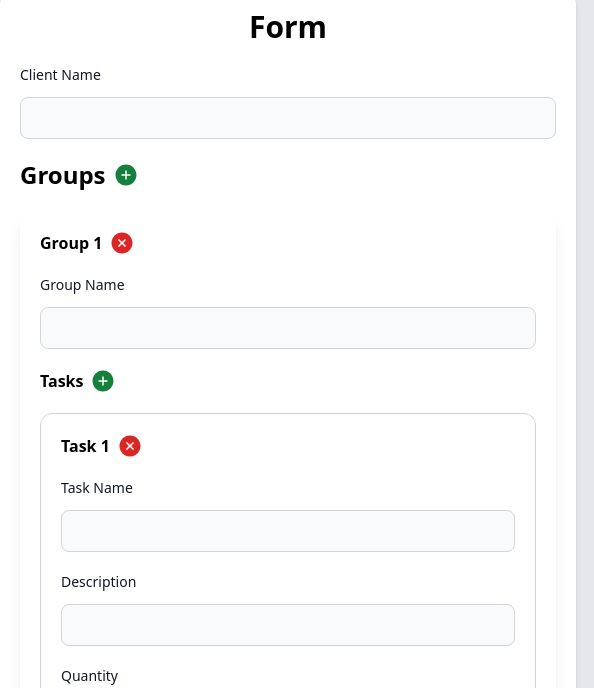
Test: DynamicForm Component › adds a new group when clicking the "+" button
The image size is (594, 688).
Click the button named "Add Group" at (126, 175), box [114, 163, 138, 187]
(page scrolled)
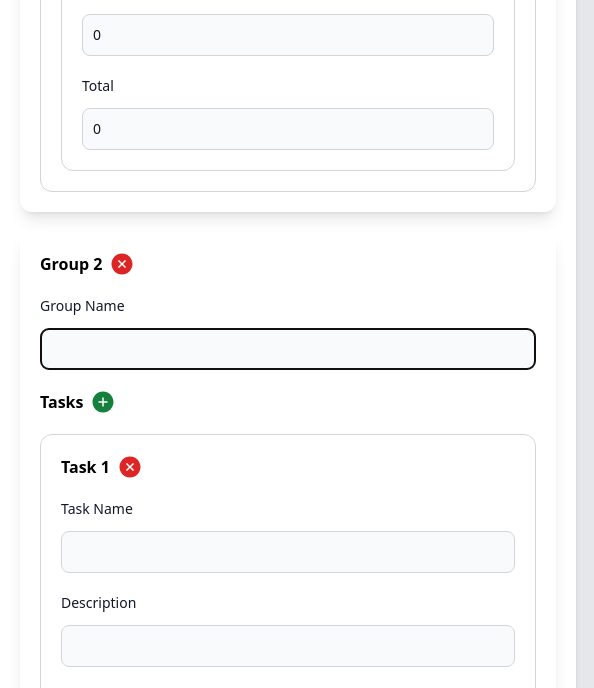
Result: the heading "Group 2" is shown at [40, 252, 102, 276]
